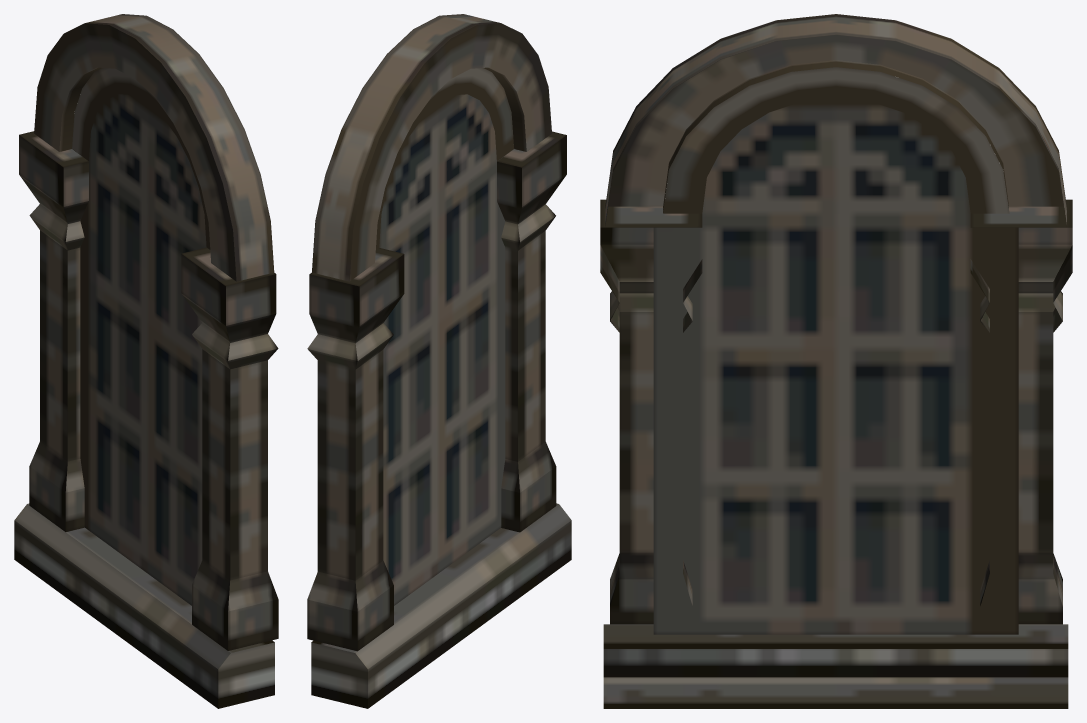
The model's file is EnvBdgMD_Snow_Mansion_A_Indoor_Window_A.FBX.
3 views of the same model, side by side, from view 1: azimuth 30°, elevation 25°; view 2: azimuth 150°, elevation 25°; view 3: azimuth 270°, elevation 25° (orthographic). The views are drawn at different scales.
Visible parts, largest first — view 1: EnvBdgMD_Snow_Mansion_A_Indoor_Window_A; view 2: EnvBdgMD_Snow_Mansion_A_Indoor_Window_A; view 3: EnvBdgMD_Snow_Mansion_A_Indoor_Window_A.
Part boxes in pixels (x1,y1,x2,y2): EnvBdgMD_Snow_Mansion_A_Indoor_Window_A: (14,14,278,708); EnvBdgMD_Snow_Mansion_A_Indoor_Window_A: (307,14,571,708); EnvBdgMD_Snow_Mansion_A_Indoor_Window_A: (600,14,1072,708).
Size of the model in its own units: 25 by 224 by 142.
1 material, 1 textured.
